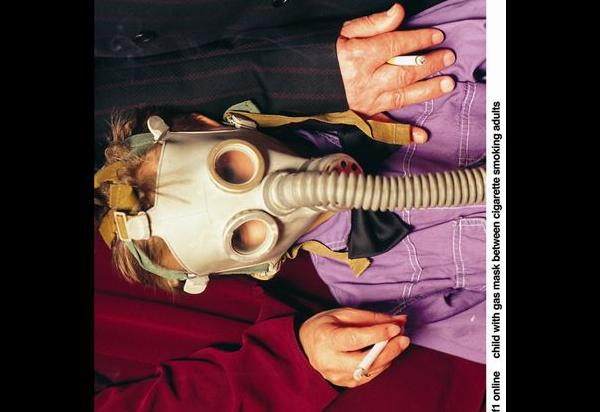Cigarette: (352, 335, 390, 380), (389, 52, 426, 68)
